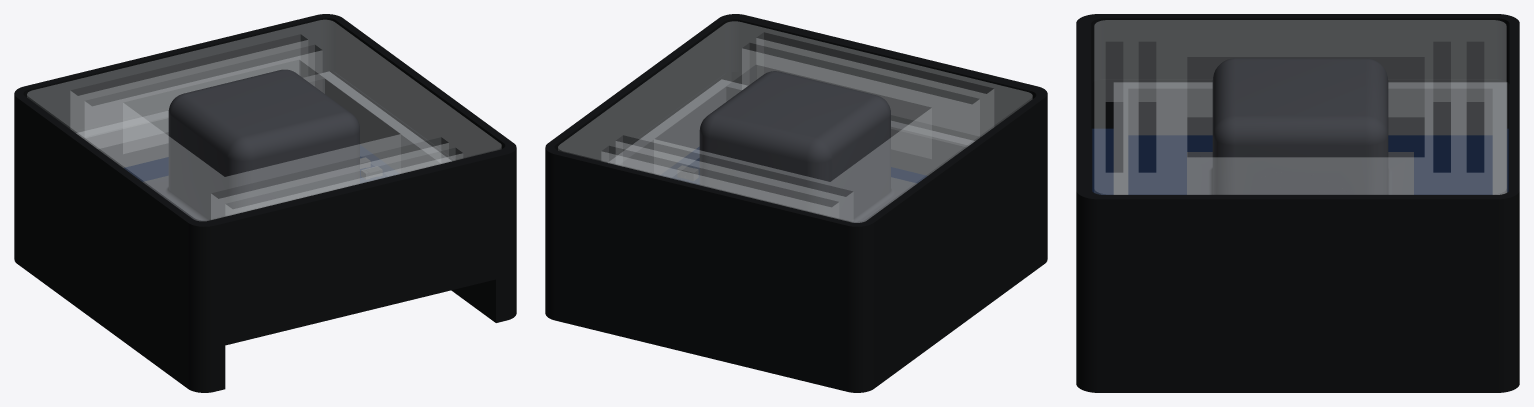
File: co2-sensor.glb
3 renders of one model, left to right at view 1: azimuth 30°, elevation 25°; view 2: azimuth 150°, elevation 25°; view 3: azimuth 270°, elevation 25°, orthographic. The views are drawn at different scales.
Visible parts, largest first — view 1: black, glass, satin, grey, pcb; view 2: black, glass, satin, grey, pcb; view 3: black, glass, satin, grey, pcb.
Boxes of the visible parts, box(x1,y1,x2,y2) form: black: box(14, 14, 516, 392); glass: box(27, 20, 501, 220); satin: box(143, 69, 359, 221); grey: box(76, 71, 451, 179); pcb: box(123, 145, 398, 183); black: box(545, 14, 1047, 392); glass: box(558, 21, 1032, 222); satin: box(699, 71, 916, 222); grey: box(608, 79, 974, 180); pcb: box(660, 146, 927, 184); black: box(1076, 14, 1519, 392); glass: box(1094, 20, 1506, 194); satin: box(1187, 58, 1413, 194); grey: box(1113, 82, 1507, 194); pcb: box(1092, 128, 1508, 194).
Size of the model in its own units: 0.0195 by 0.0104 by 0.0197.
